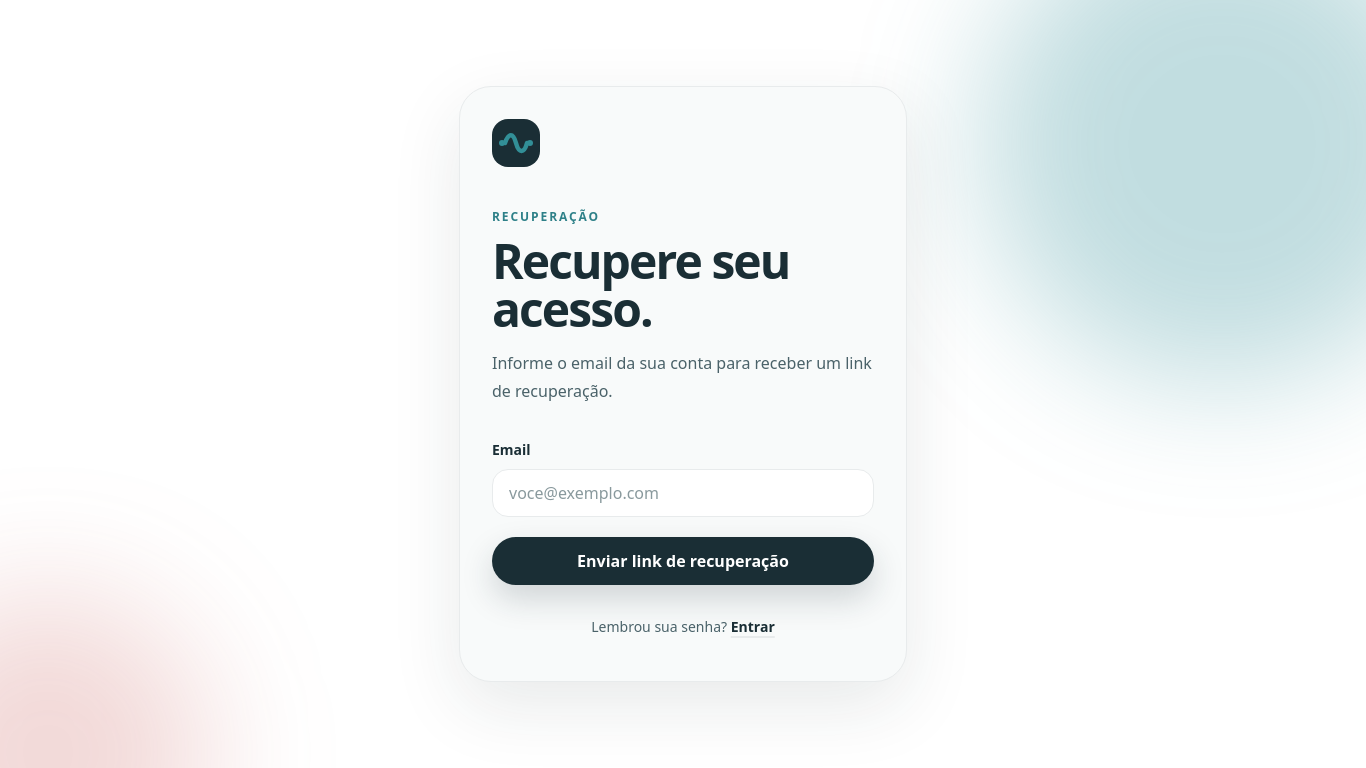
Scenario: ForgotPasswordPage › should show pending state while the request is being sent
Step 1. Type " user@example.com " into the field labelled "Email" → (683, 493), box [492,469,874,517]
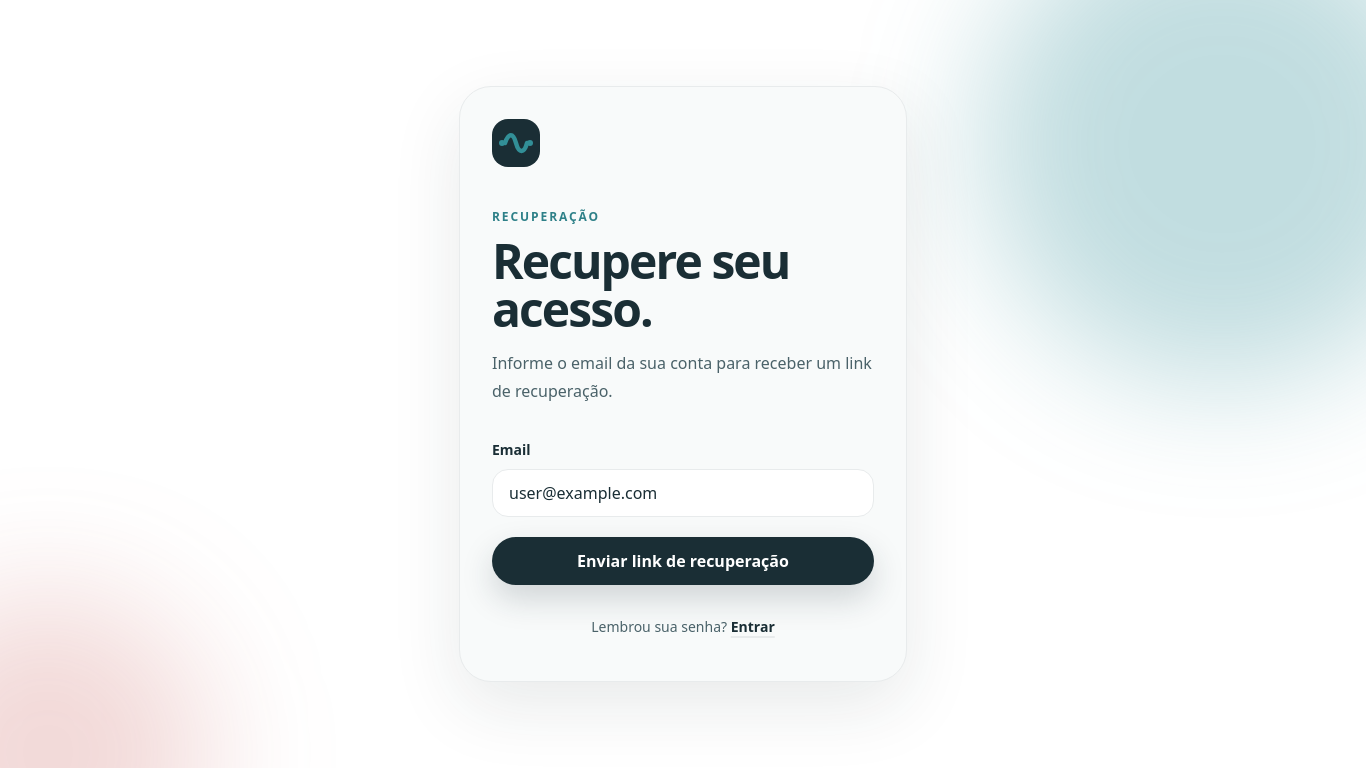
Step 2. Click the button "Enviar link de recuperação" → (683, 561), box [492,537,874,585]
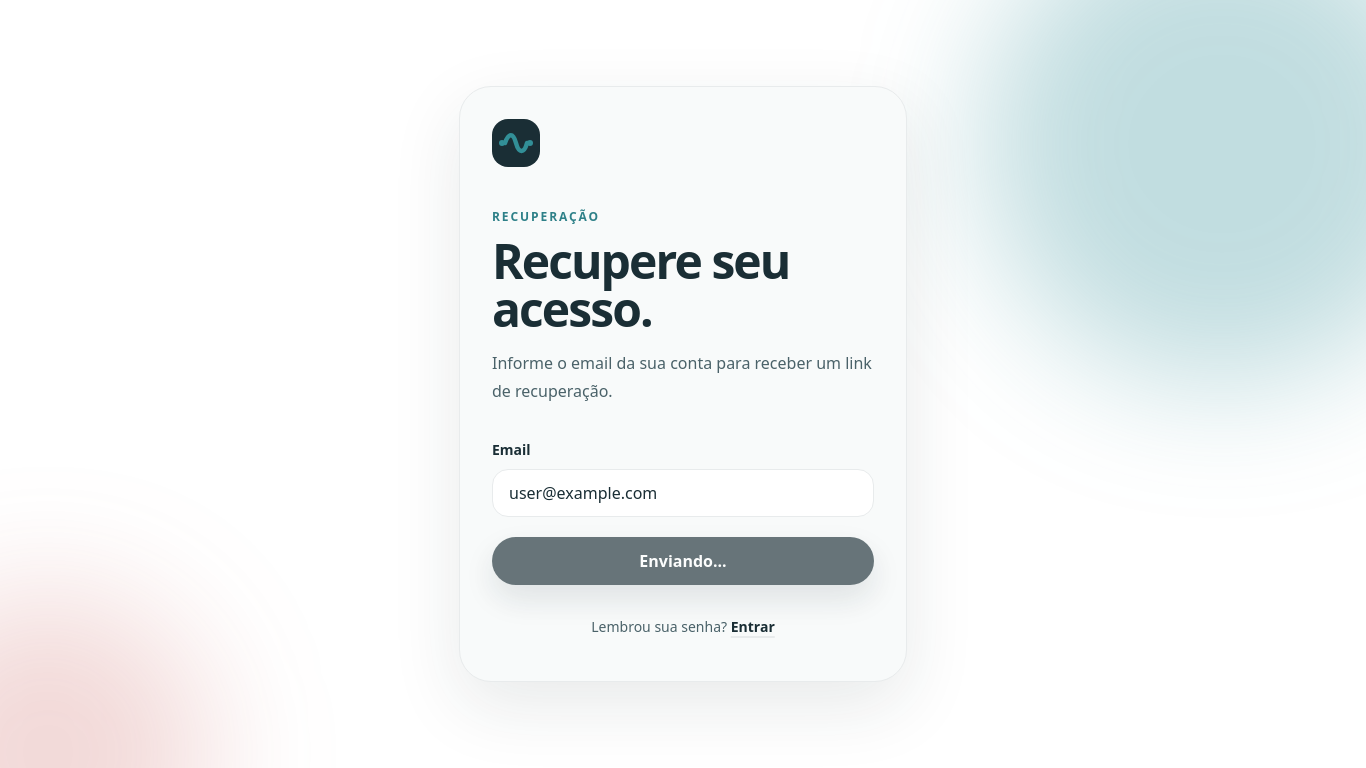
Expected: the button "Enviando..." is disabled, [492,537,874,585]
